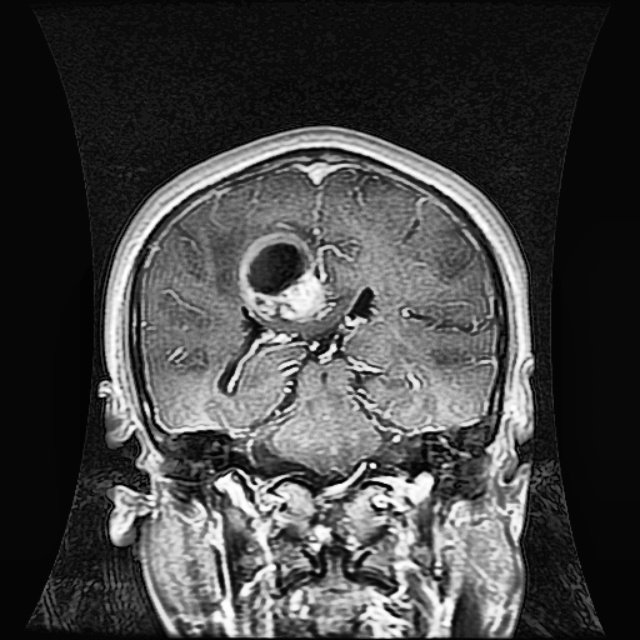Meningioma: (230, 220, 338, 325)
